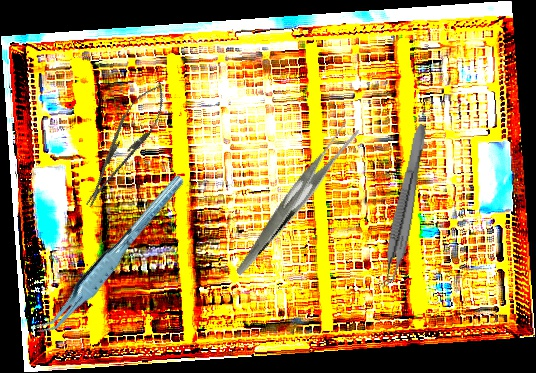Dressing Forceps: (200, 117, 390, 277)
Needle Holder: (73, 74, 176, 215)
Tissue Forceps: (20, 173, 202, 341), (377, 121, 429, 292)
